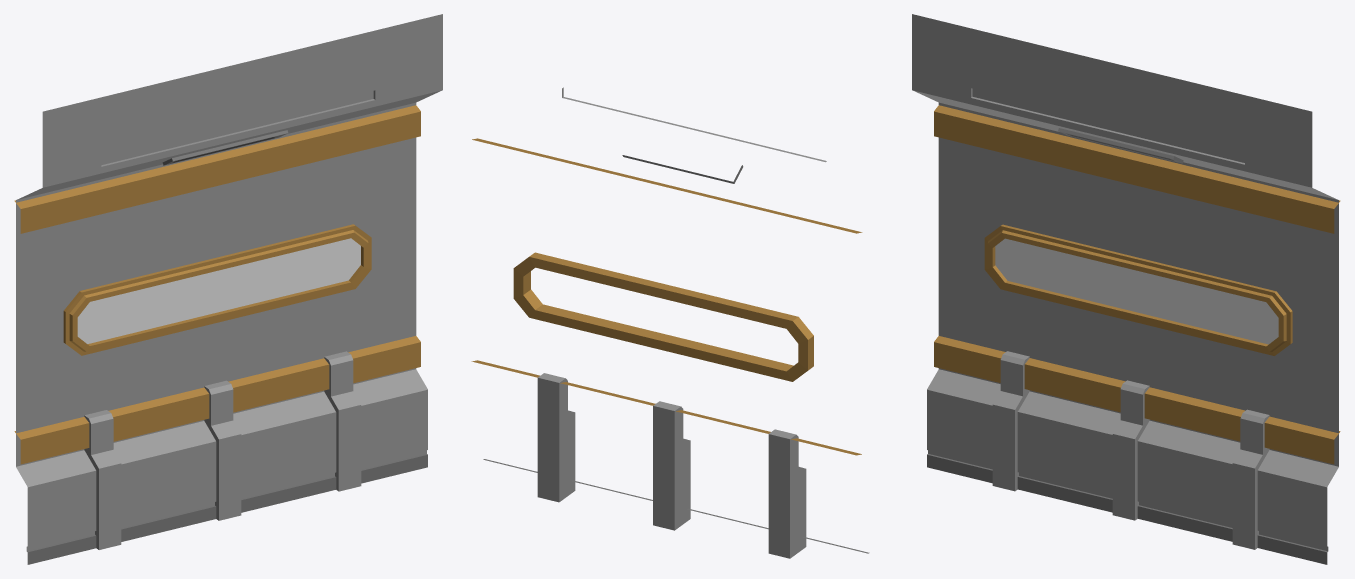
The picture shows the model from 3 angles, left to right: view 1: azimuth 30°, elevation 25°; view 2: azimuth 150°, elevation 25°; view 3: azimuth 330°, elevation 25°; orthographic projection. The views are drawn at different scales.
Parts seen in each view (by area): view 1: LongWindow_Wall_SideB; view 2: LongWindow_Wall_SideB; view 3: LongWindow_Wall_SideB.
Boxes of the visible parts, bbox=[...] form: LongWindow_Wall_SideB: bbox=[14, 14, 442, 564]; LongWindow_Wall_SideB: bbox=[471, 87, 869, 558]; LongWindow_Wall_SideB: bbox=[912, 14, 1340, 564].
Size of the model in its own units: 4 by 4.43 by 0.5355.
